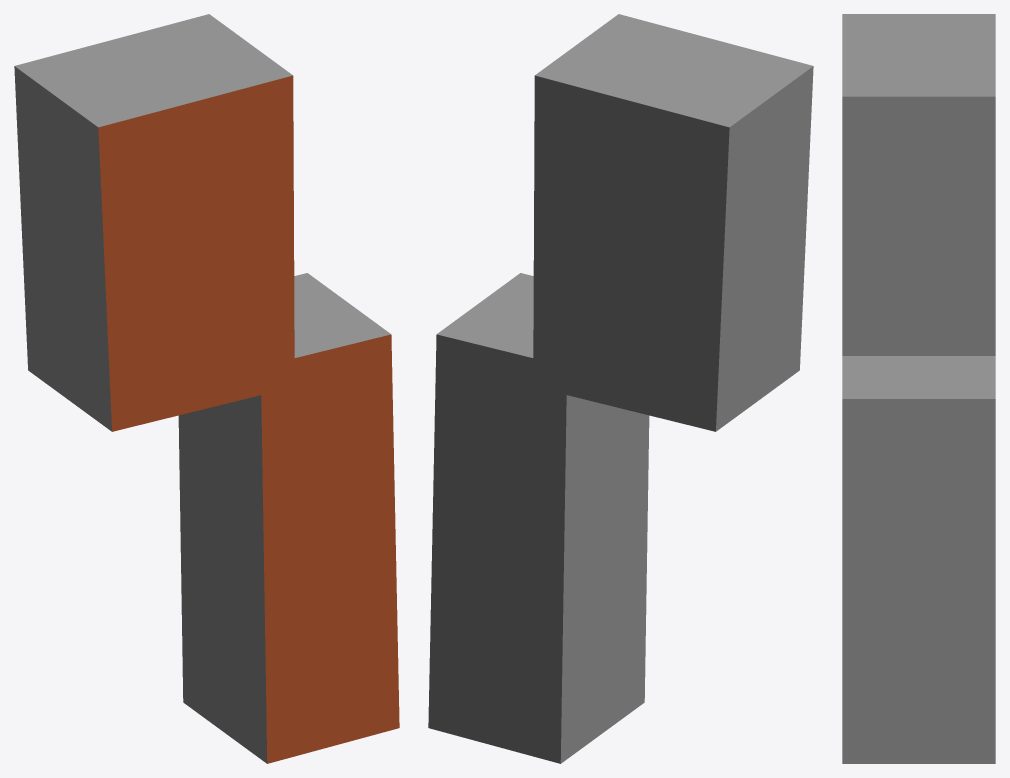
The model's file is construction_1277_assumed_A_Casa_h6m.obj.
3 views of the same model, side by side, from view 1: azimuth 30°, elevation 25°; view 2: azimuth 150°, elevation 25°; view 3: azimuth 270°, elevation 25° (orthographic). The views are drawn at different scales.
Parts seen in each view (by area): view 1: construction_1277_assumed_A_Casa; view 2: construction_1277_assumed_A_Casa; view 3: construction_1277_assumed_A_Casa.
Boxes of the visible parts, x1,y1,x2,y2 form: construction_1277_assumed_A_Casa: (14,14,399,763); construction_1277_assumed_A_Casa: (428,14,813,763); construction_1277_assumed_A_Casa: (842,14,995,763).
Size of the model in its own units: 12.42 by 26.88 by 6.
